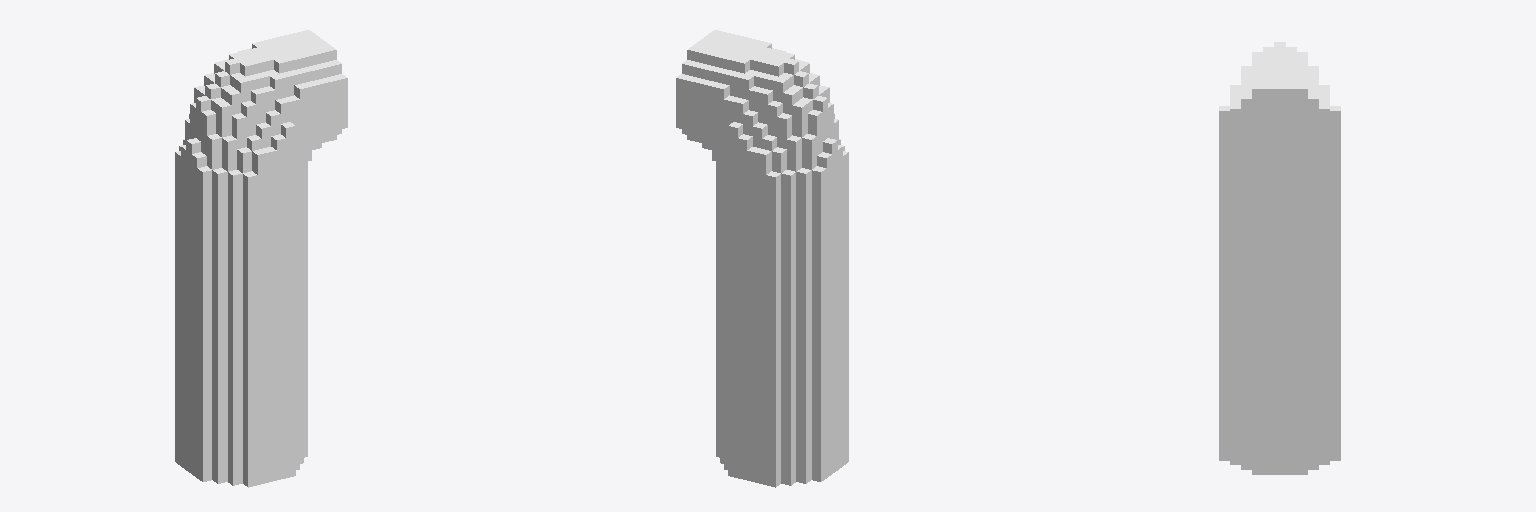
The model's file is lvl1-5.obj.
3 renders of one model, left to right at view 1: azimuth 30°, elevation 25°; view 2: azimuth 150°, elevation 25°; view 3: azimuth 270°, elevation 25°, orthographic.
Visible parts, largest first — view 1: object 1; view 2: object 1; view 3: object 1.
Part boxes in pixels (x1,y1,x2,y2): object 1: (175, 30, 347, 487); object 1: (676, 30, 848, 487); object 1: (1219, 42, 1340, 474).
Bounding box in the file's own units: 1.4 × 4 × 1.1.